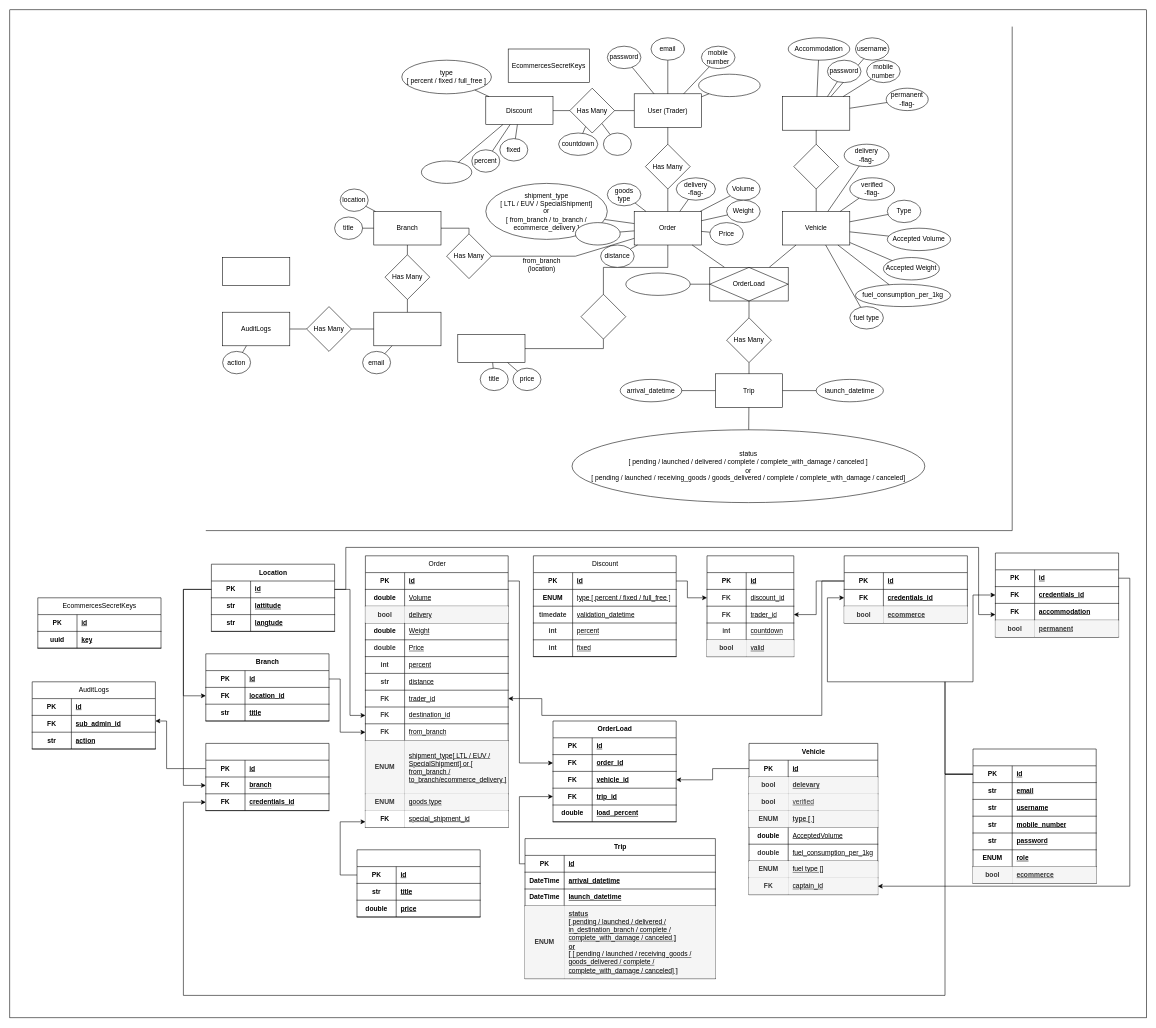
Image size: 1156x1028. Some labels were removed from this diagram. The shapes that lost their labels are listed below. From the top down, each one's box as (x1, y1, x2, y2) in pixels, then its label:
(698, 74, 760, 97): ecommerce -flag-
(782, 96, 850, 130): Truck-Captain
(603, 132, 631, 155): valid -flag-
(421, 160, 472, 183): validation_date
(793, 144, 839, 189): Has One
(575, 222, 620, 245): destination
(222, 257, 290, 286): Admin
(625, 272, 690, 295): load_percent نسبة الاوردر بالمركبة
(373, 312, 441, 346): Sub-Admin
(580, 294, 626, 339): Might be
(457, 334, 525, 363): Special Shipment
(706, 555, 794, 657): Discount_Trader
(844, 555, 967, 623): Trader
(995, 552, 1119, 637): TruckCaptain
(205, 743, 329, 811): SubAdmin
(972, 748, 1096, 883): Credentials
(356, 849, 480, 917): SpecialShipment
